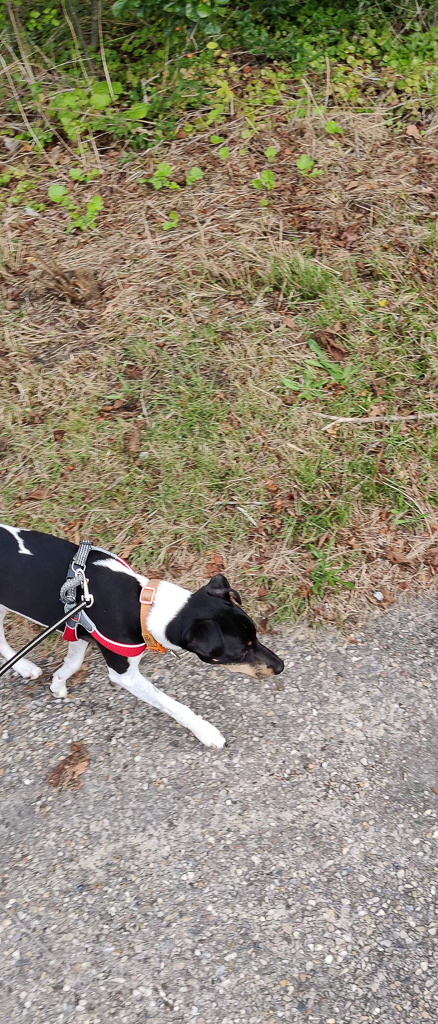Dog: (0, 509, 307, 785)
